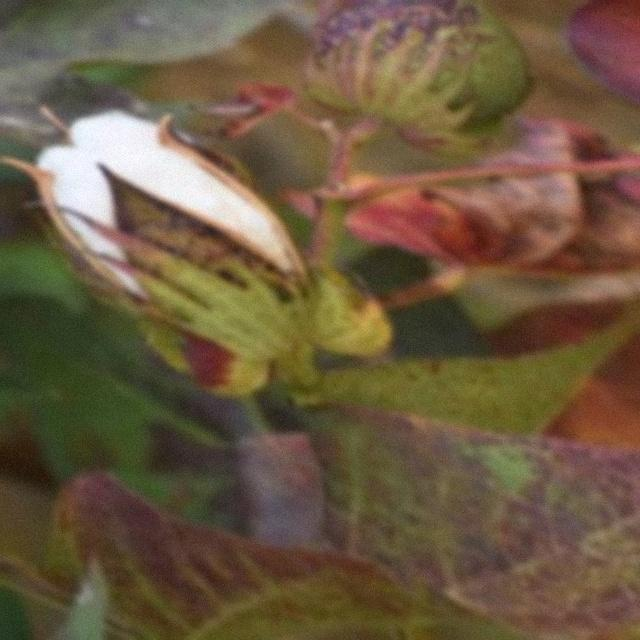Early Boll: (284, 0, 545, 158)
Split Cotton Boll: (47, 102, 307, 407)
